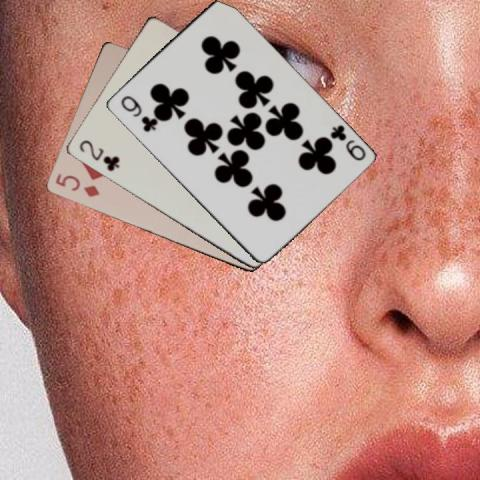2c: (75, 137, 121, 173)
5d: (52, 170, 101, 199)
9c: (118, 93, 158, 133), (327, 121, 366, 162)
